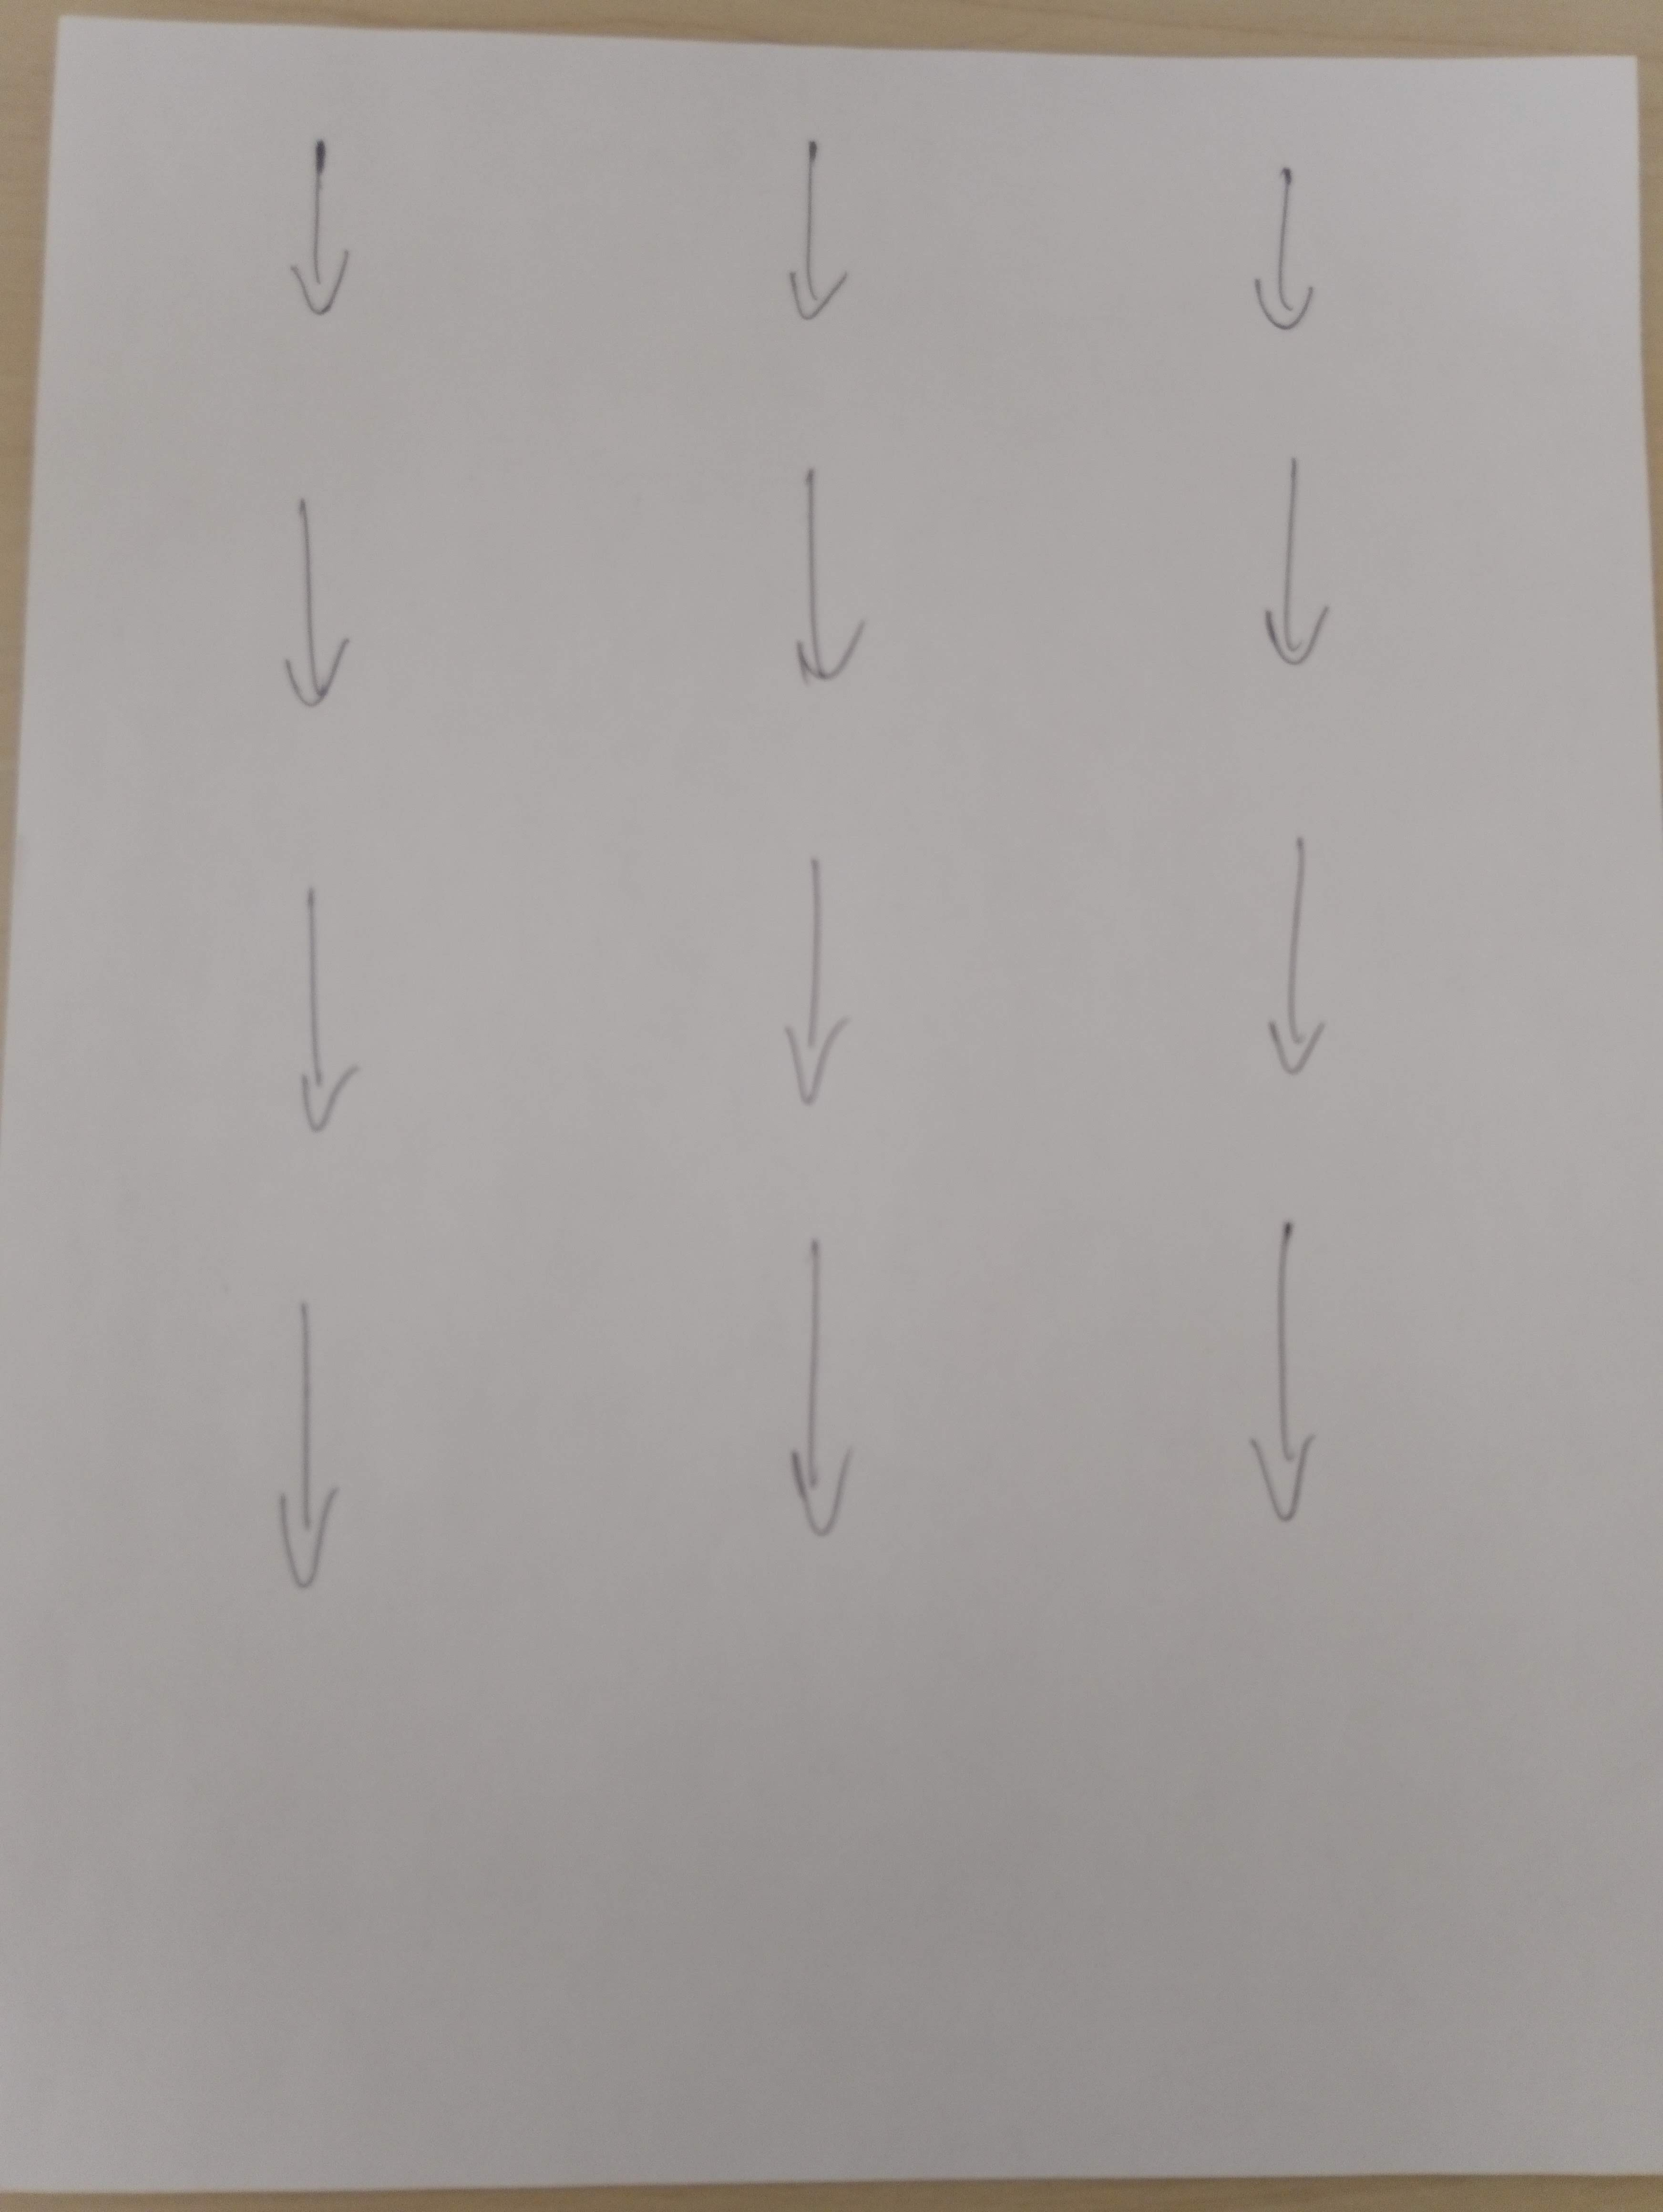arrow_line_down: (758, 452, 893, 735), (788, 1231, 891, 1549), (259, 1294, 351, 1604), (262, 868, 365, 1145), (769, 838, 868, 1121), (262, 482, 377, 718), (1246, 1215, 1329, 1538), (1256, 828, 1356, 1091), (1232, 152, 1349, 332), (1252, 457, 1345, 681), (274, 127, 362, 332), (791, 141, 865, 344)
